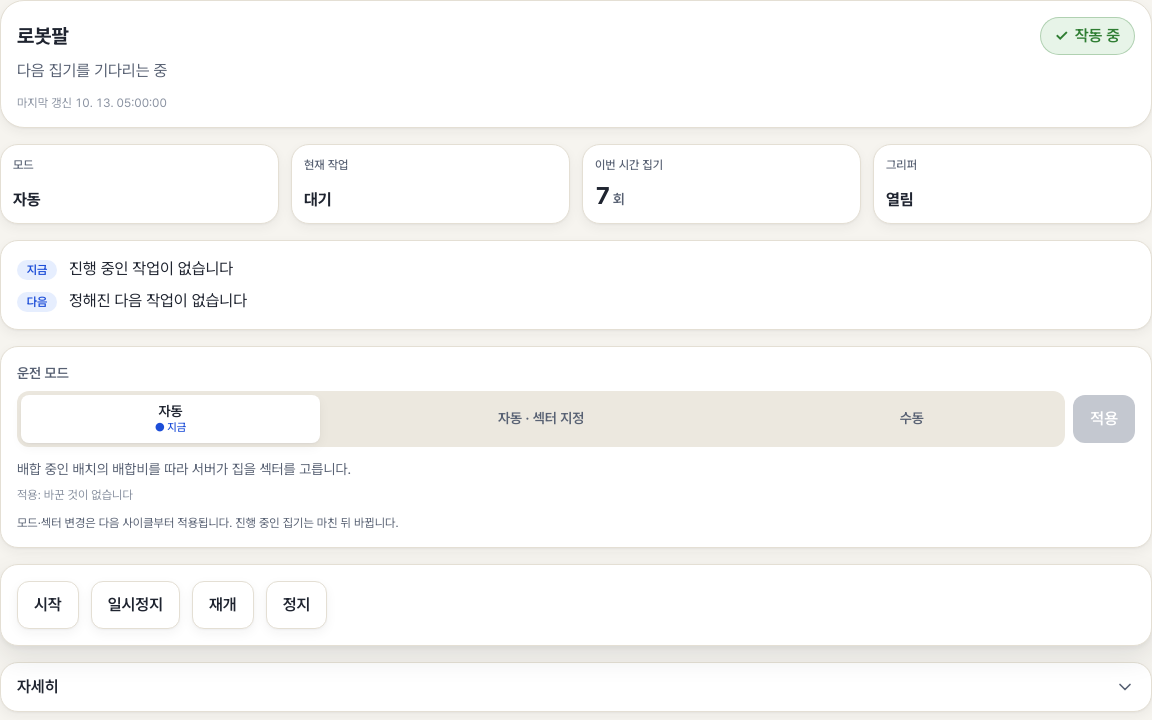
it: RobotPage › 진단: 서버의 로봇 모델이 있으면 그 관절 이름과 범위로 바뀐다
What coordinates should you click on to do the following:
click the button "자세히"
I would click on:
 (38, 686)
Its box is [1,663,1151,711].
(page scrolled)
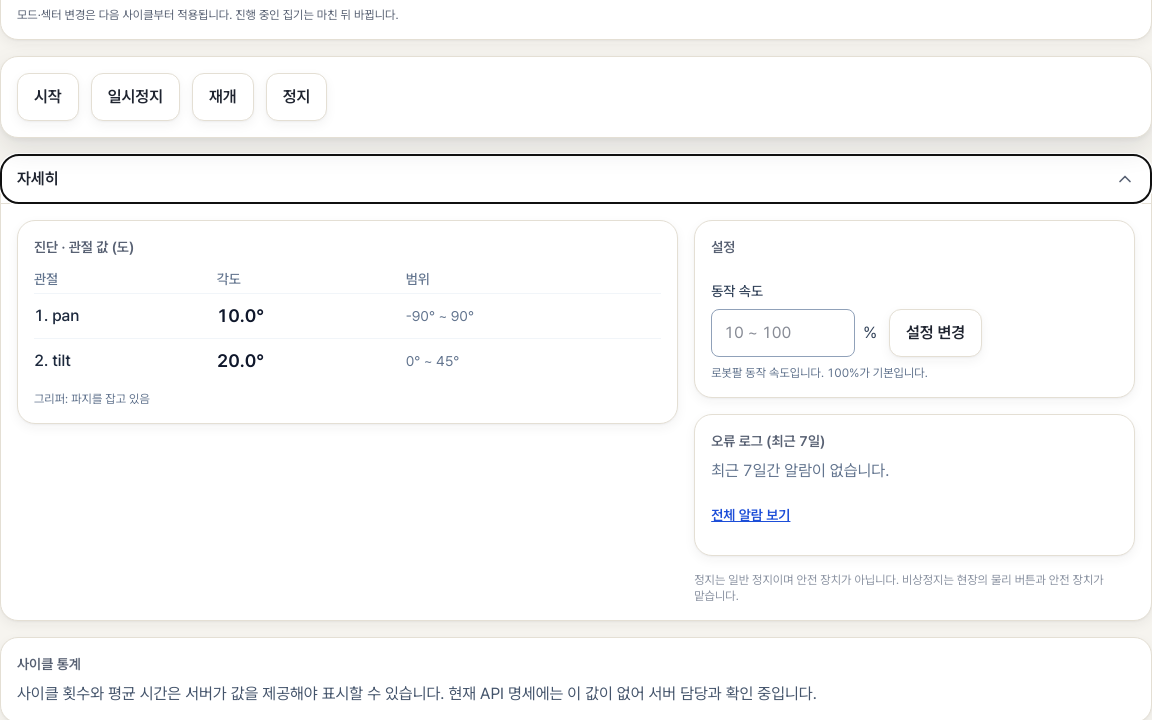
Expected: the column heading "2. tilt" is shown, [34,338,217,383]
Expected: the number of rows is 3, [34,265,661,294]; [34,294,661,338]; [34,338,661,383]
